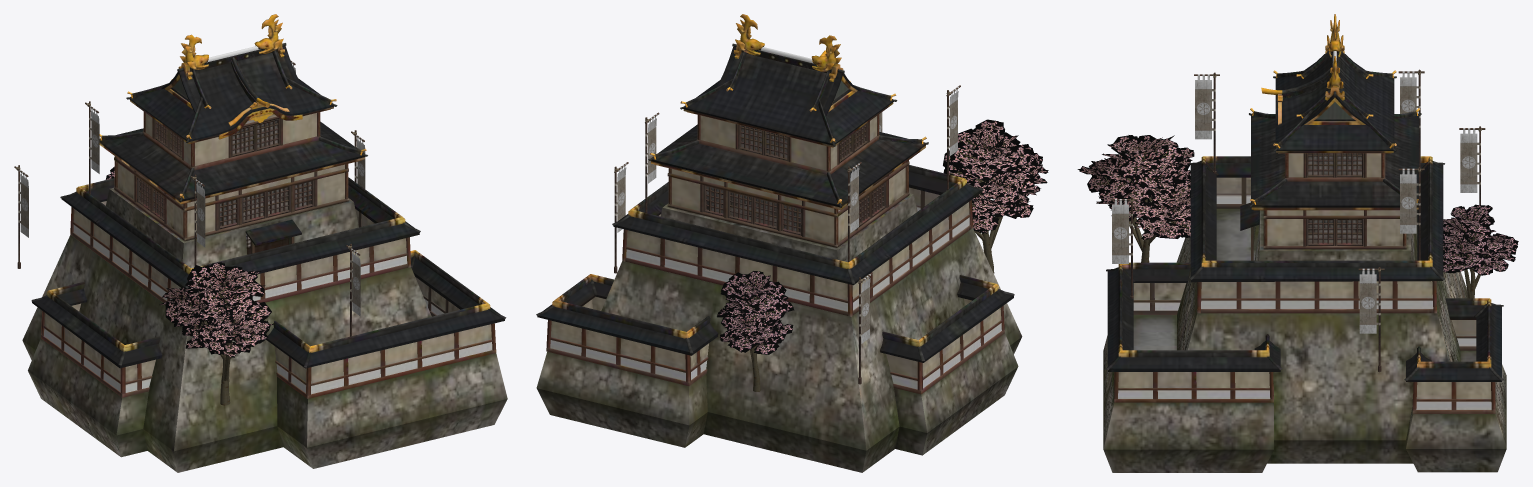
File: 94-wonder-amaterasu.glb
3 views of the same model, side by side, from view 1: azimuth 30°, elevation 25°; view 2: azimuth 150°, elevation 25°; view 3: azimuth 270°, elevation 25° (orthographic). The views are drawn at different scales.
Bounding box in the file's own units: 15.34 × 15.73 × 17.44.
6 materials, 6 textured.
